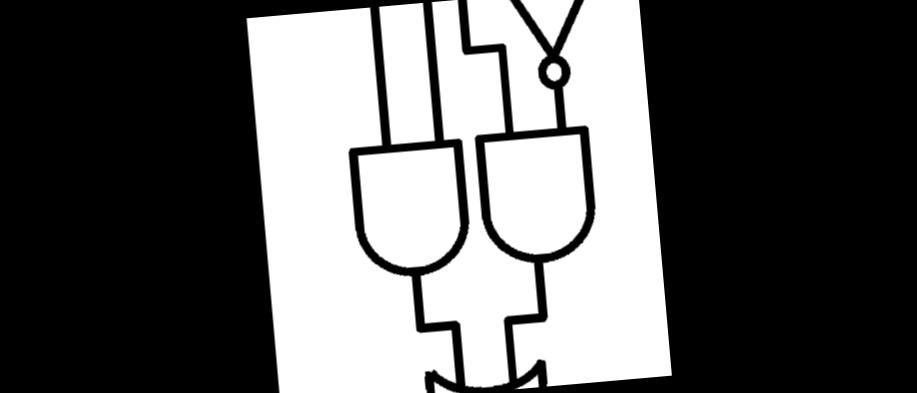and: (335, 121, 478, 312), (468, 111, 620, 290)
not: (481, 0, 621, 106)
or: (408, 343, 555, 393)
